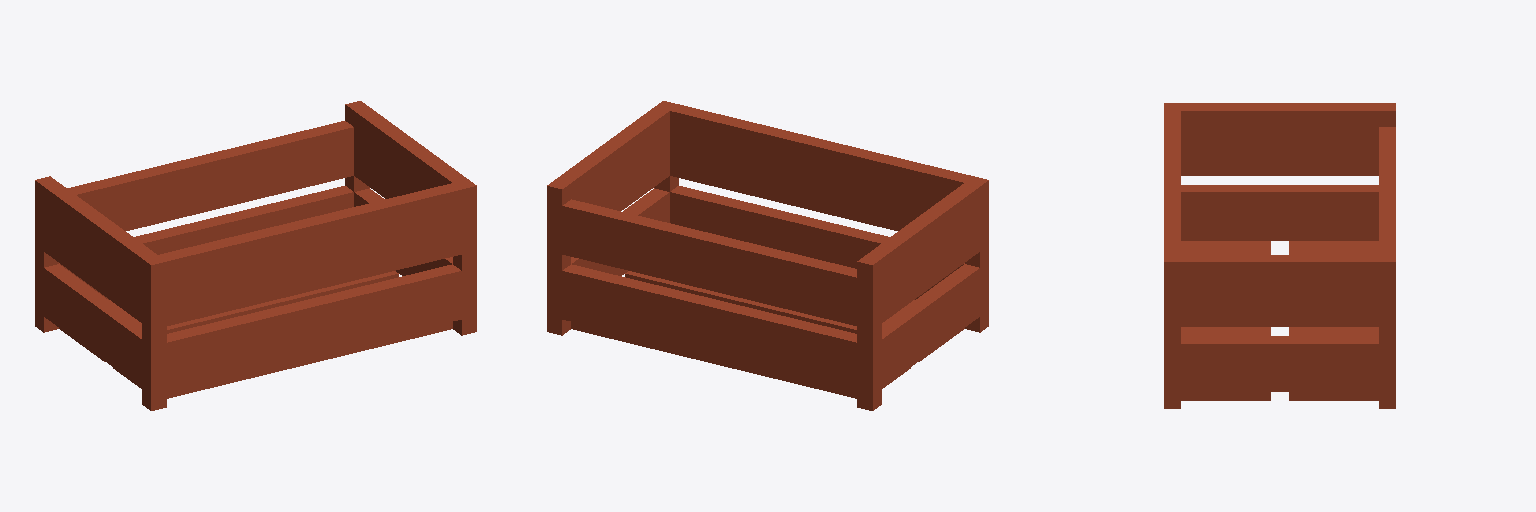
3 renders of one model, left to right at view 1: azimuth 30°, elevation 25°; view 2: azimuth 150°, elevation 25°; view 3: azimuth 270°, elevation 25°, orthographic.
Visible parts, largest first — view 1: object 1; view 2: object 1; view 3: object 1.
Part boxes in pixels (x1,y1,x2,y2): object 1: (35, 101, 476, 410); object 1: (547, 101, 988, 410); object 1: (1164, 103, 1395, 408).
Size of the model in its own units: 2.1 by 0.9 by 1.3.
1 materials, 1 textured.